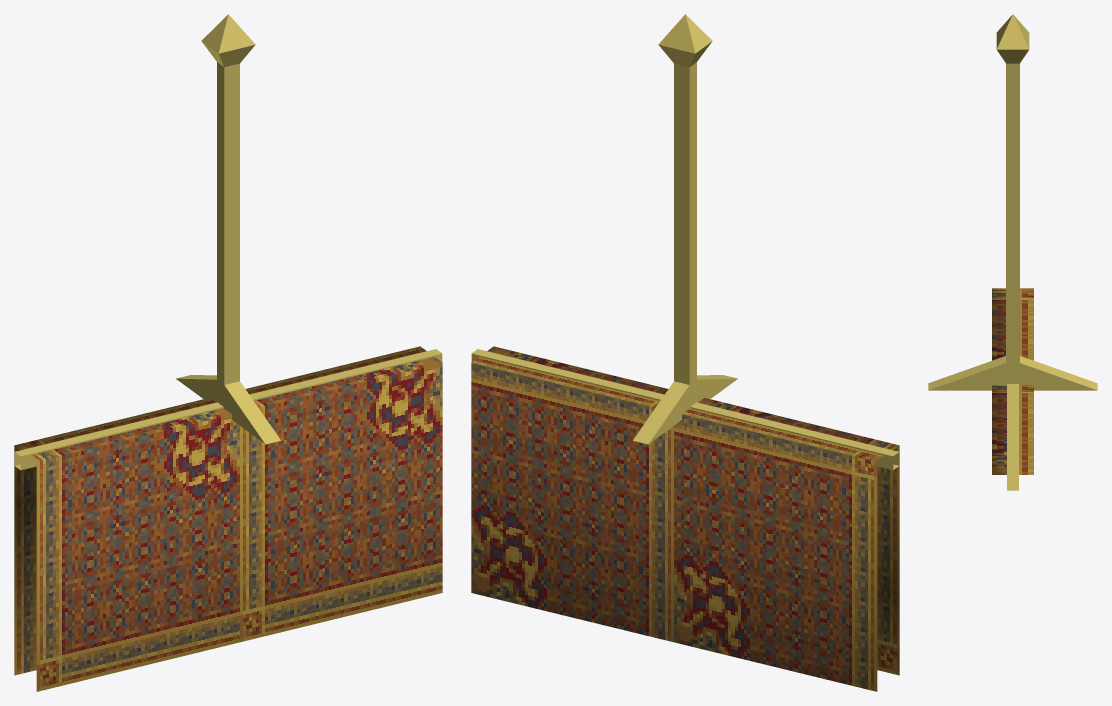
The picture shows the model from 3 angles, left to right: view 1: azimuth 30°, elevation 25°; view 2: azimuth 150°, elevation 25°; view 3: azimuth 270°, elevation 25°; orthographic projection. The views are drawn at different scales.
Visible parts, largest first — view 1: 4627floor_r; view 2: 4627floor_r; view 3: 4627floor_r.
Part boxes in pixels (x1,y1,x2,y2): 4627floor_r: [14, 14, 442, 691]; 4627floor_r: [471, 14, 899, 691]; 4627floor_r: [928, 14, 1097, 490].
Size of the model in its own units: 1.59 by 2.23 by 0.5869.
2 materials, 1 textured.
